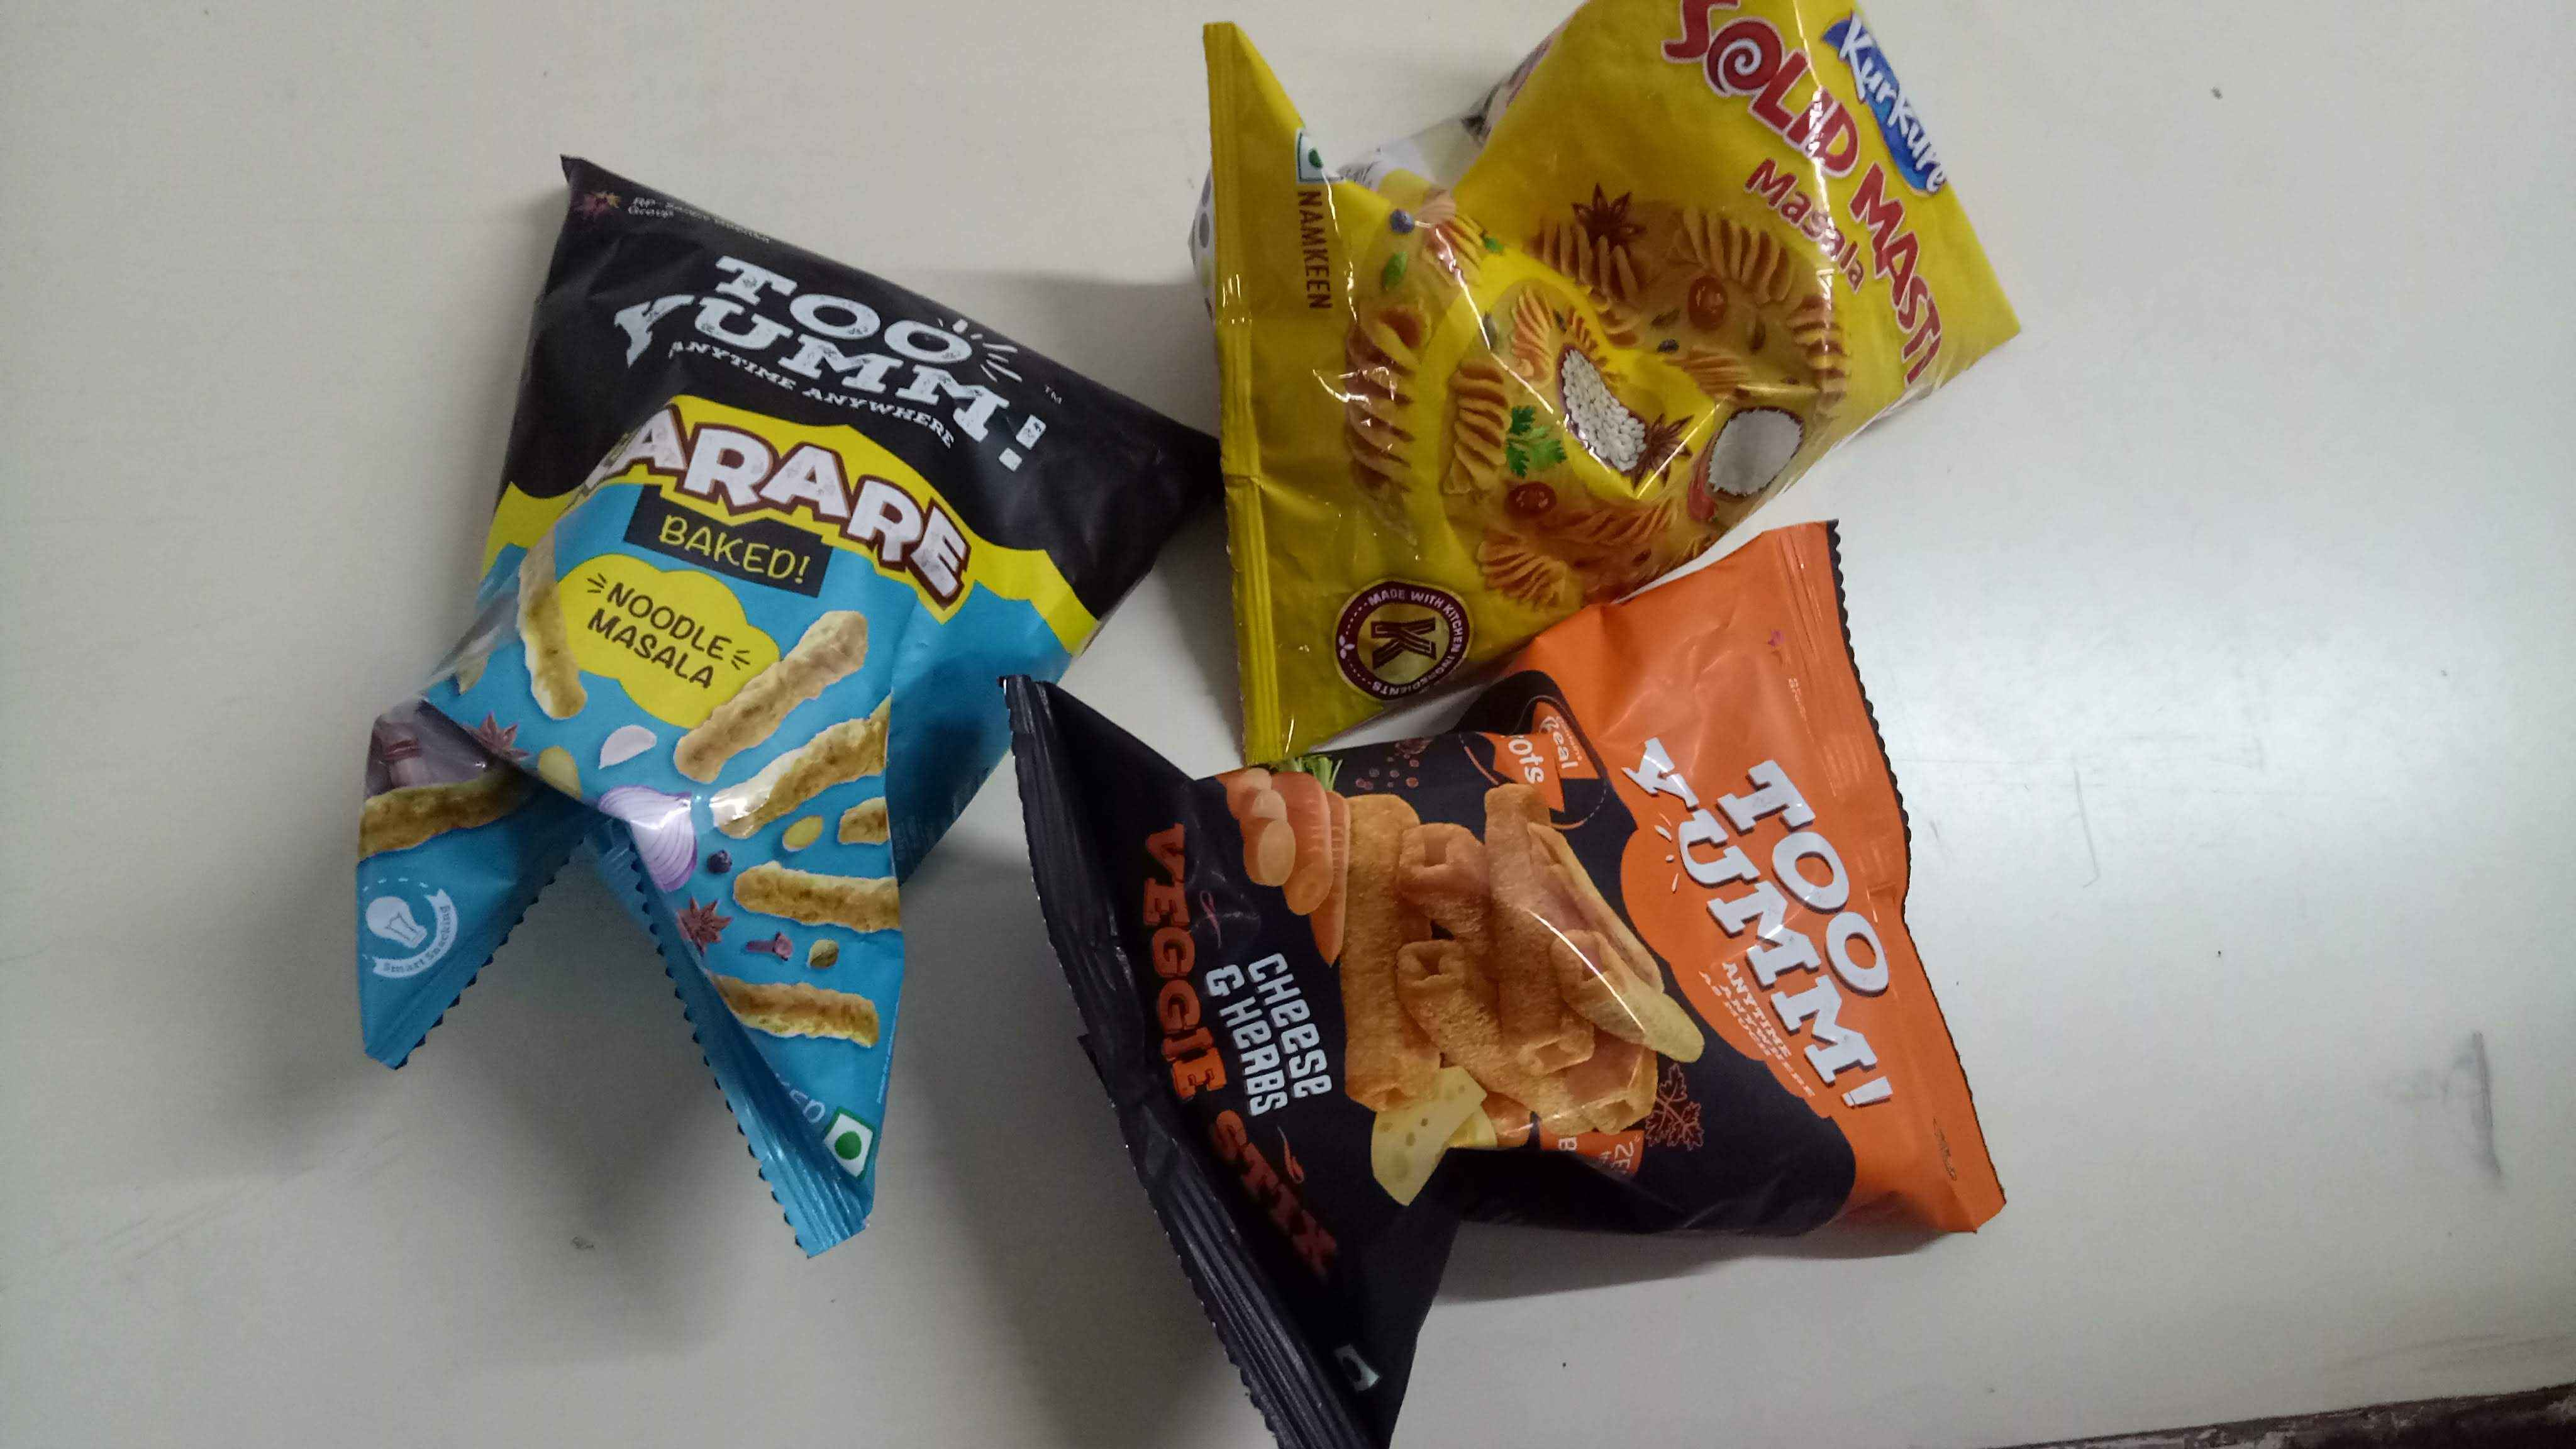kurkure: (1819, 7, 1957, 226)
tooyumm: (1612, 690, 1937, 1136), (596, 267, 1058, 400)
